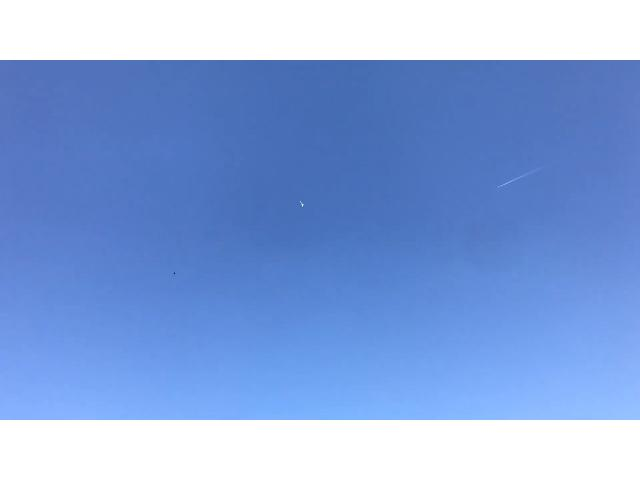Anti-Drone: (294, 194, 310, 214)
